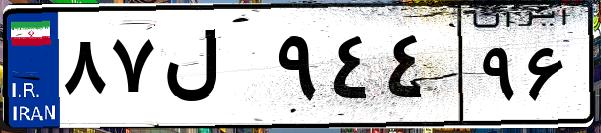4: (385, 28, 445, 110), (330, 28, 385, 110)
6: (525, 38, 570, 115)
7: (110, 28, 158, 98)
8: (57, 26, 110, 100)
9: (270, 28, 330, 110), (475, 38, 525, 113)
ل: (158, 20, 270, 120)
